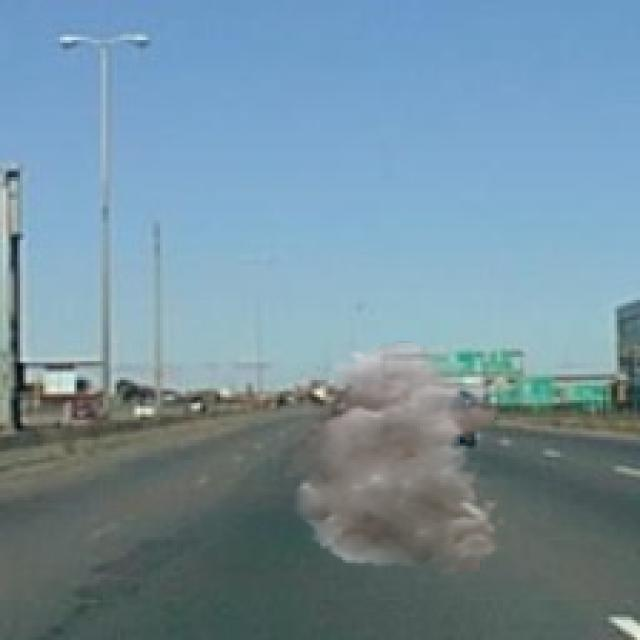Smoke: (266, 340, 508, 577)
